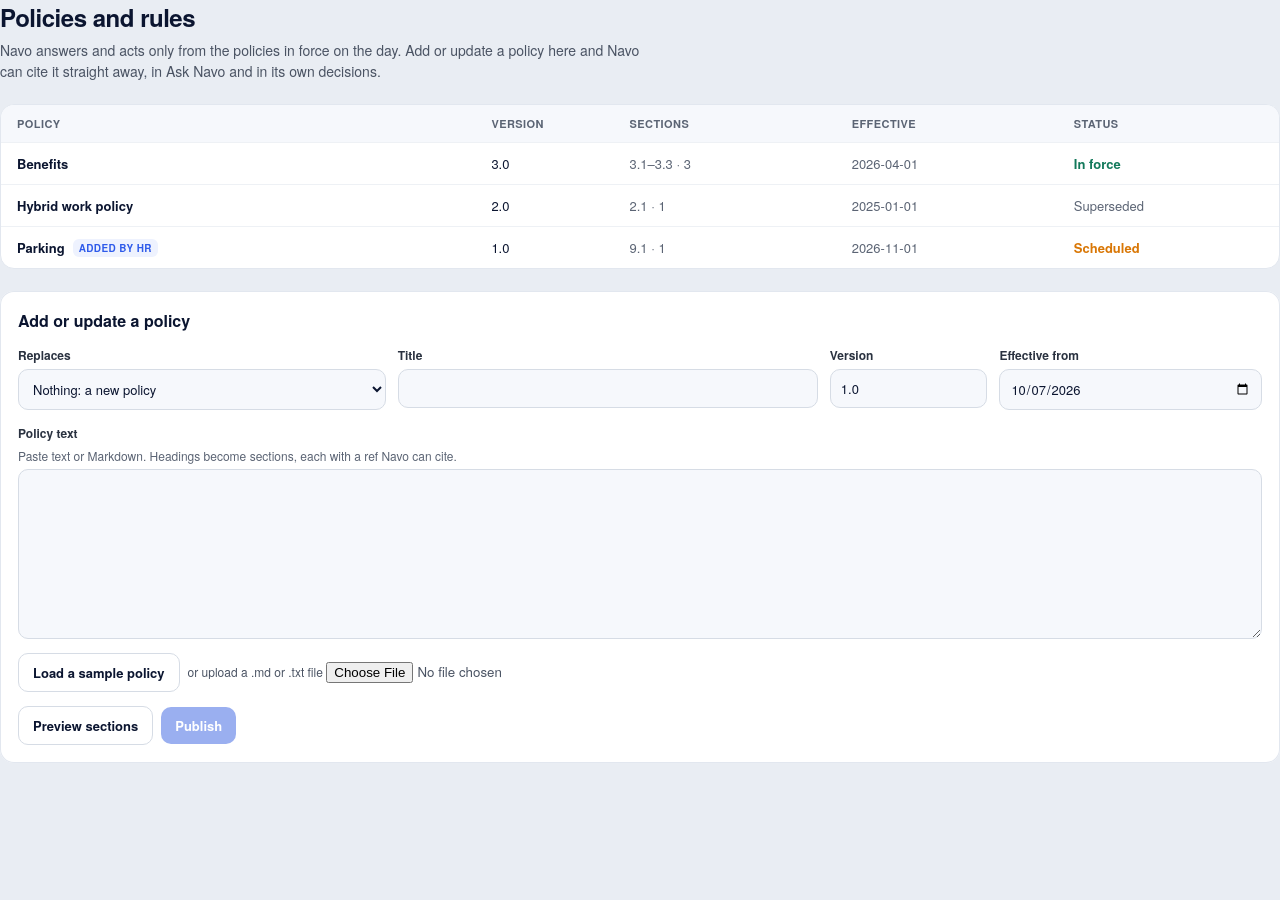
policies page › loads the sample, previews the sections, publishes and refreshes
Click the button "Load a sample policy": point(99, 672) [18,653,180,692]
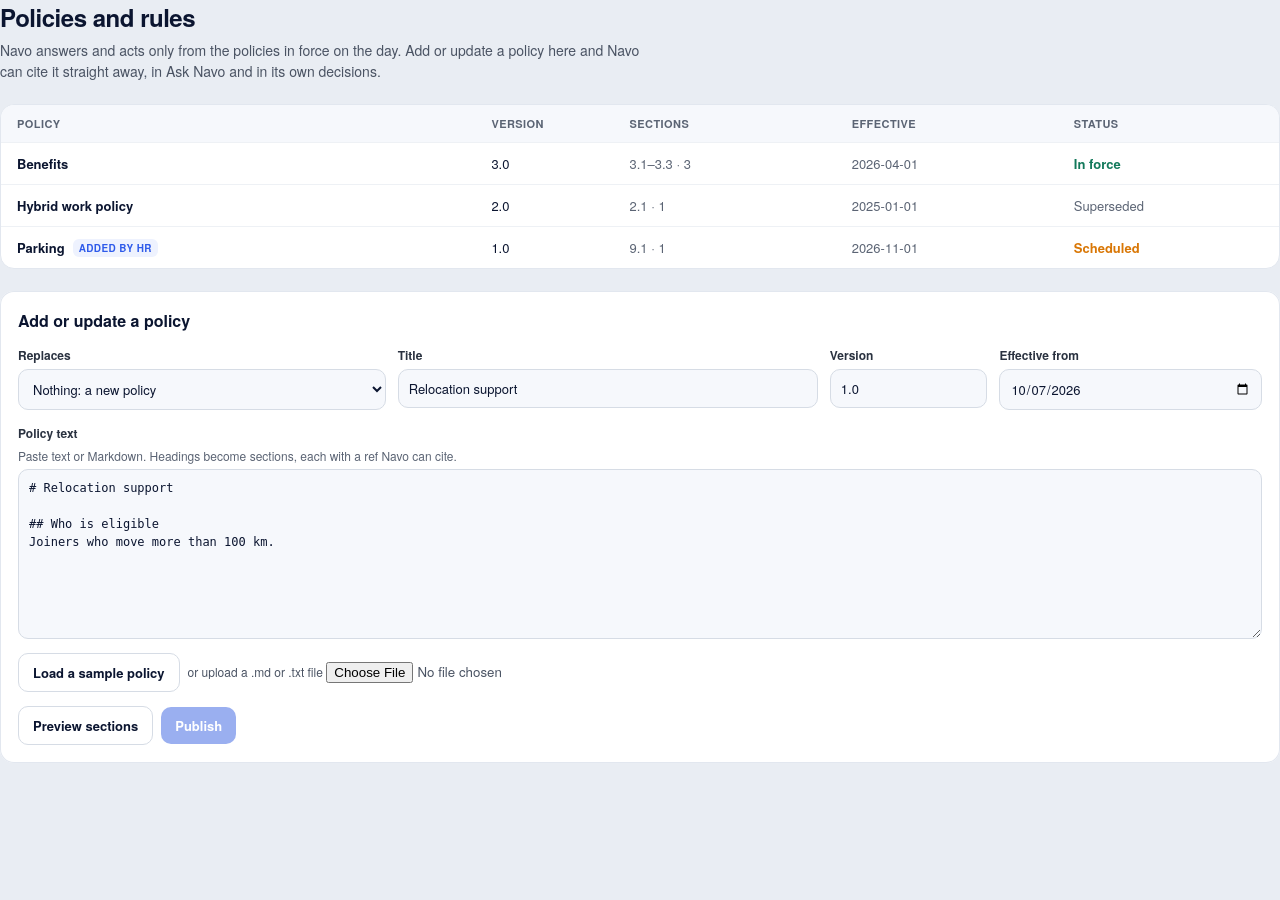
Expected: the button "Publish" is disabled, [161,707,236,744]
Expected: the field labelled "Title" holds "Relocation support", [398,369,818,408]
Click the button "Preview sections": point(86, 726) [18,706,153,745]
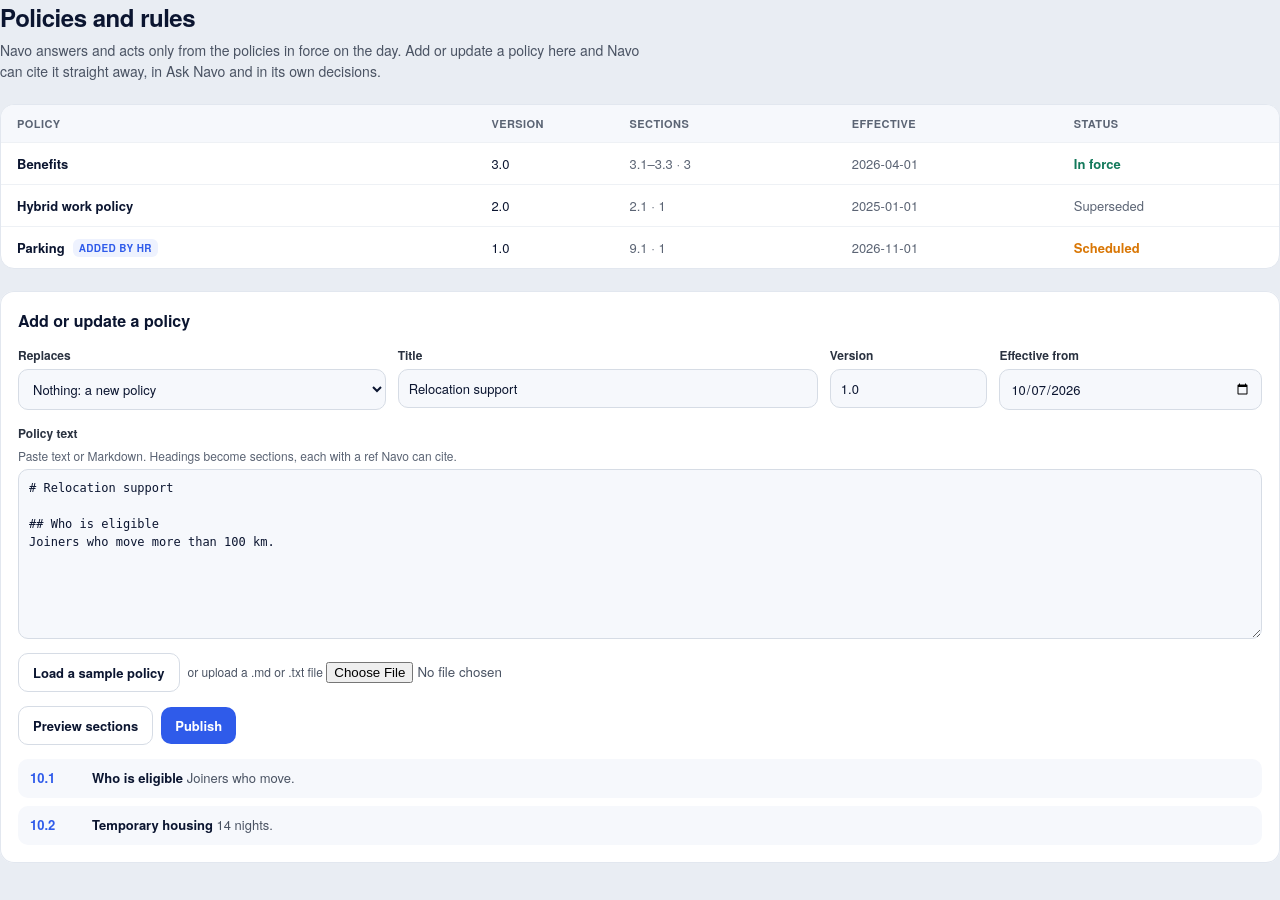
Expected: the list items read "10.1Who is eligible Joiners who move.", "10.2Temporary housing 14 nights.", in this order, [18,759,1262,798]; [18,806,1262,845]
Expected: the button "Publish" is enabled
Click the button "Publish": point(199, 726) [161,707,236,744]
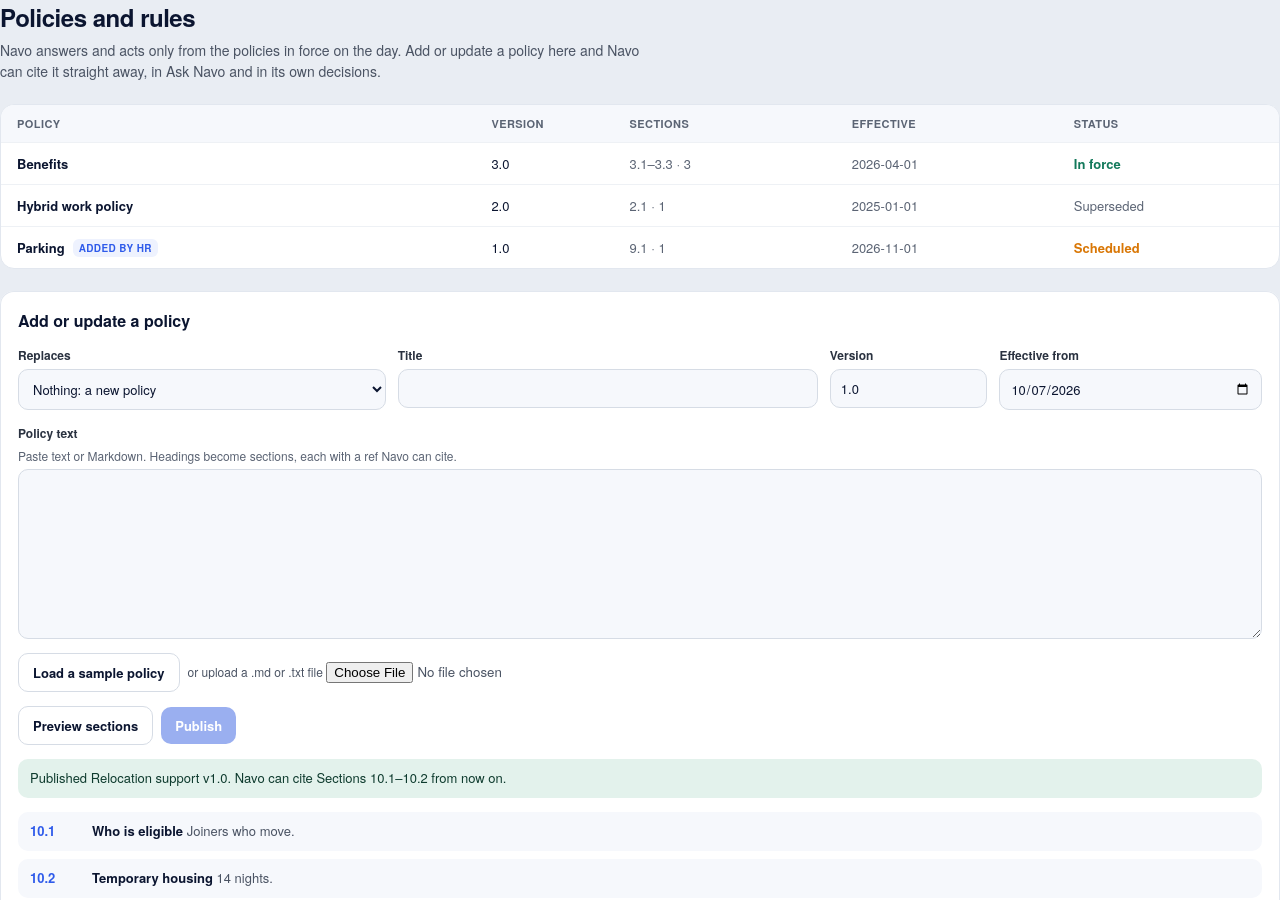
Expected: the message reads "Published Relocation support v1.0. Navo can cite Sections 10.1–10.2 from now on.", [18,759,1262,798]
